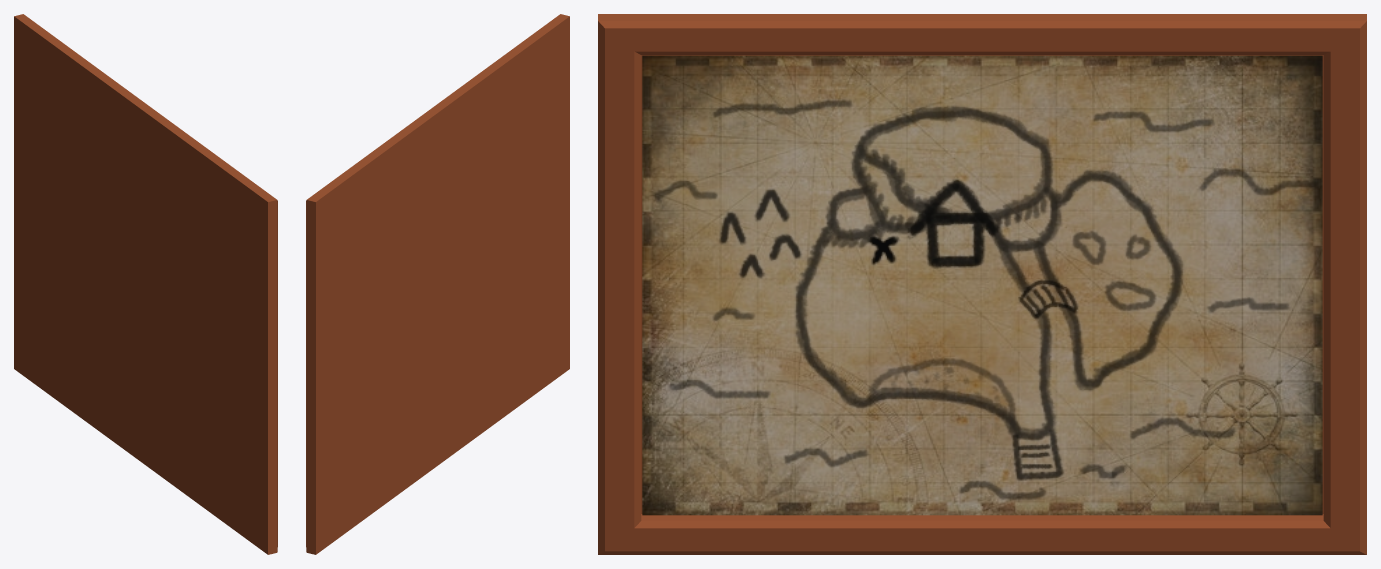
File: map_frame.glb
3 views of the same model, side by side, from view 1: azimuth 30°, elevation 25°; view 2: azimuth 150°, elevation 25°; view 3: azimuth 270°, elevation 25° (orthographic). The views are drawn at different scales.
Parts seen in each view (by area): view 1: map_merged; view 2: map_merged; view 3: map_merged.
Boxes of the visible parts, x1,y1,x2,y2 form: map_merged: (14, 14, 277, 554); map_merged: (306, 14, 569, 554); map_merged: (598, 14, 1366, 554).
Size of the model in its own units: 0.1 by 2.79 by 3.64.
Materials: 2 (1 with a texture image).
